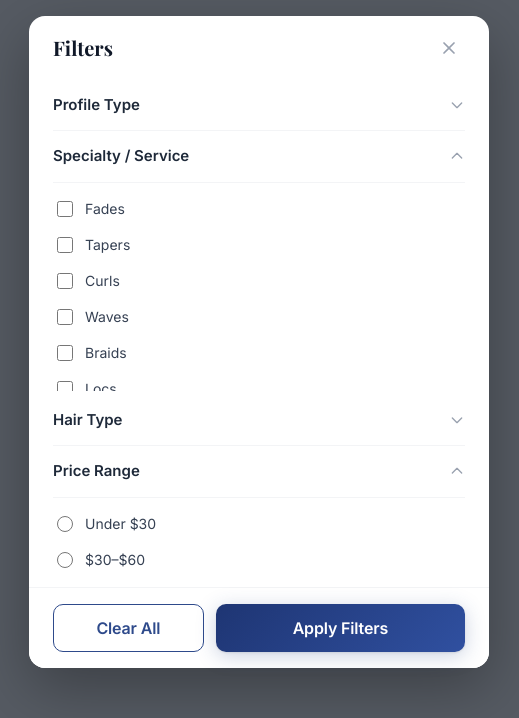
Test: FilterModal › selecting a specialty checks the checkbox
Click the checkbox labelled "Fades". click: (65, 209)
box: [57, 201, 73, 217]
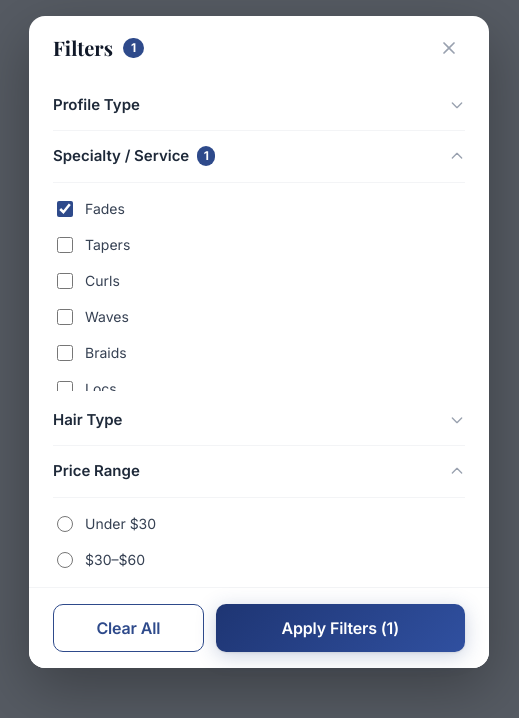
Check: the checkbox labelled "Fades" is checked, box [57, 201, 73, 217]
